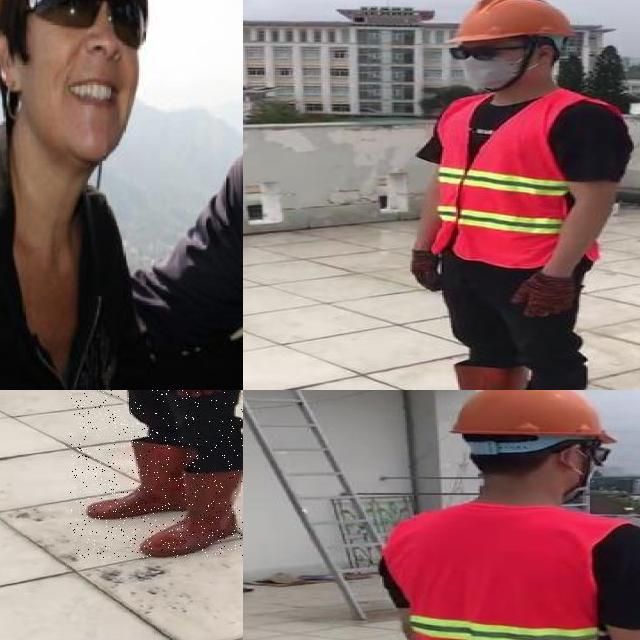boots: (136, 467, 243, 557), (90, 441, 200, 519), (410, 367, 525, 390)
face_mask: (447, 40, 522, 89)
face_nomask: (33, 0, 147, 131)
glasses: (23, 0, 152, 51), (444, 41, 504, 64)
hand_glove: (506, 276, 581, 316), (410, 248, 444, 295)
head_helmet: (455, 390, 617, 443), (451, 0, 577, 43)
person: (384, 0, 640, 390), (378, 390, 640, 640), (0, 0, 149, 390), (157, 0, 243, 390), (70, 390, 243, 558)
vest: (382, 506, 629, 640), (431, 91, 604, 268)
